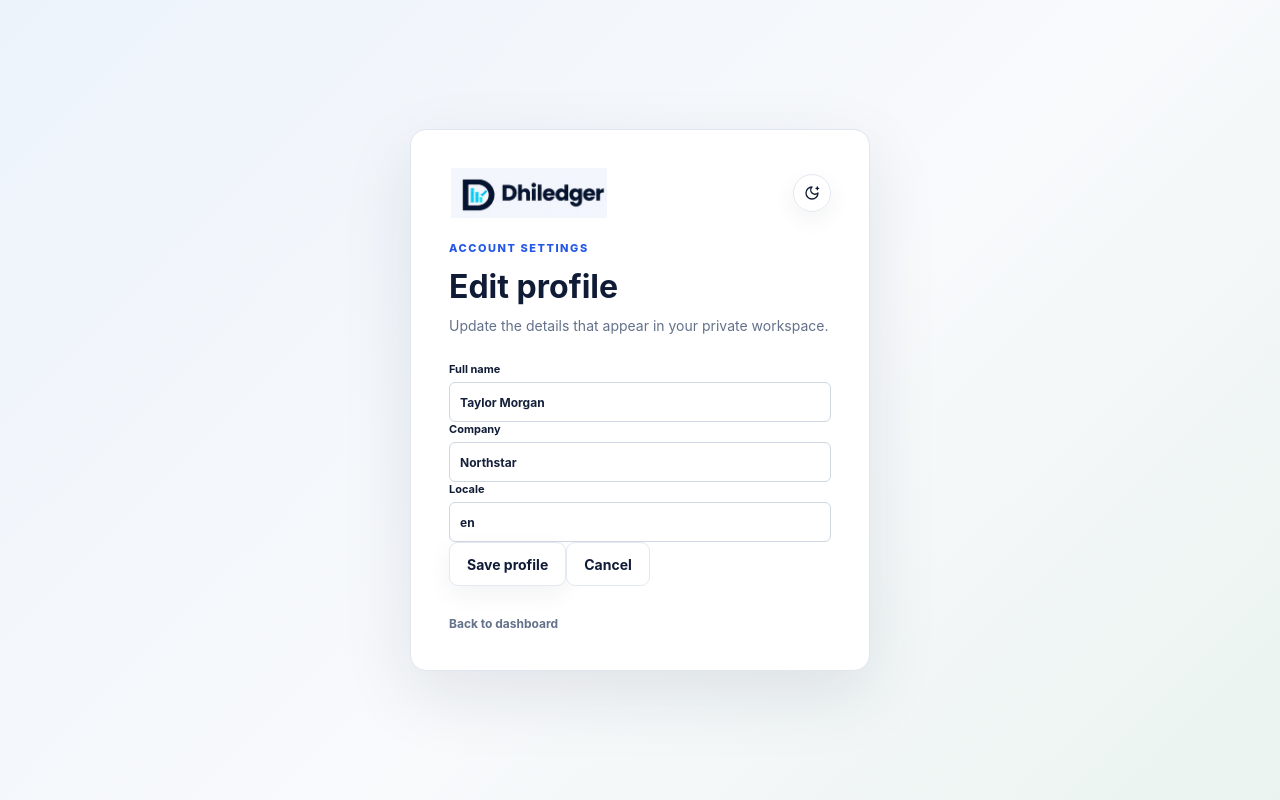
LiveDashboard profile editor › persists edited profile fields while preserving other account metadata
Replace the text in the field labelled "Full name" with "Taylor Lee" at [640, 402], box [449,382,831,422]
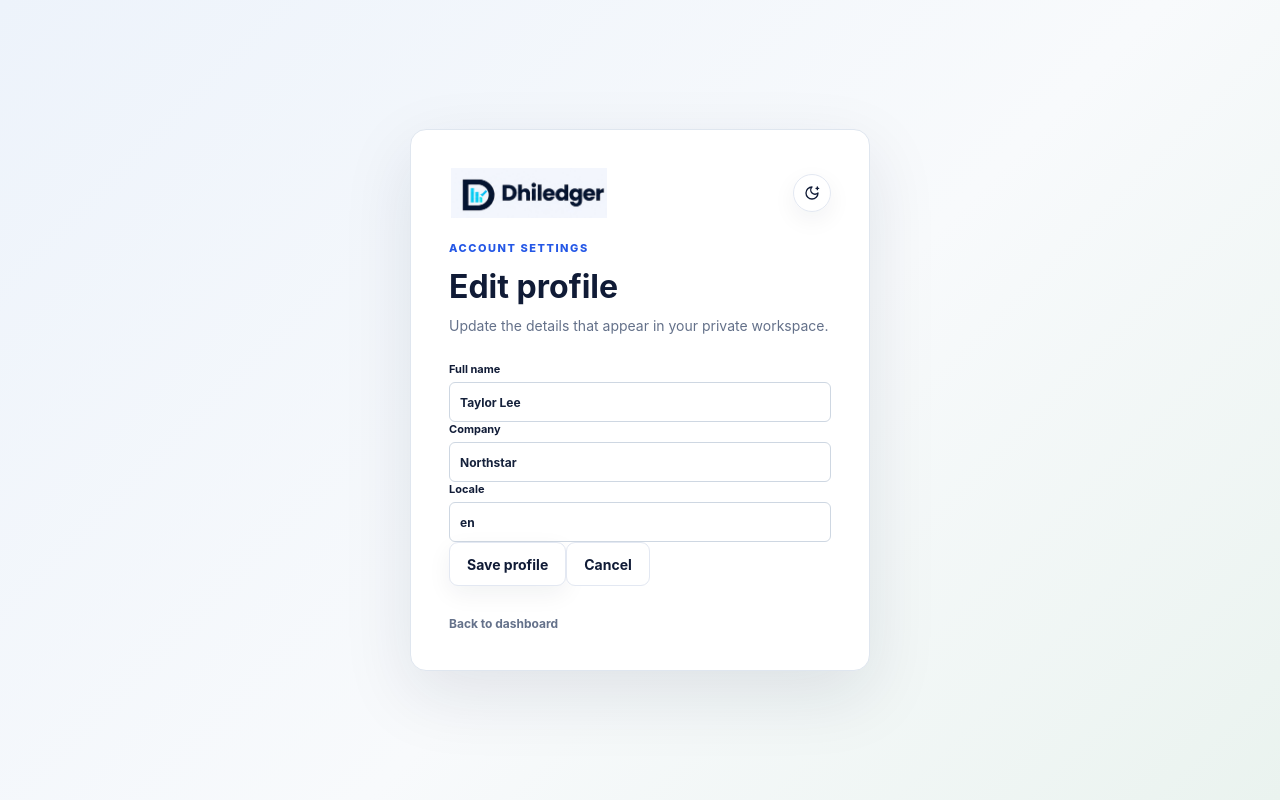
Replace the text in the field labelled "Company" with "Northstar Labs" at [640, 462], box [449,442,831,482]
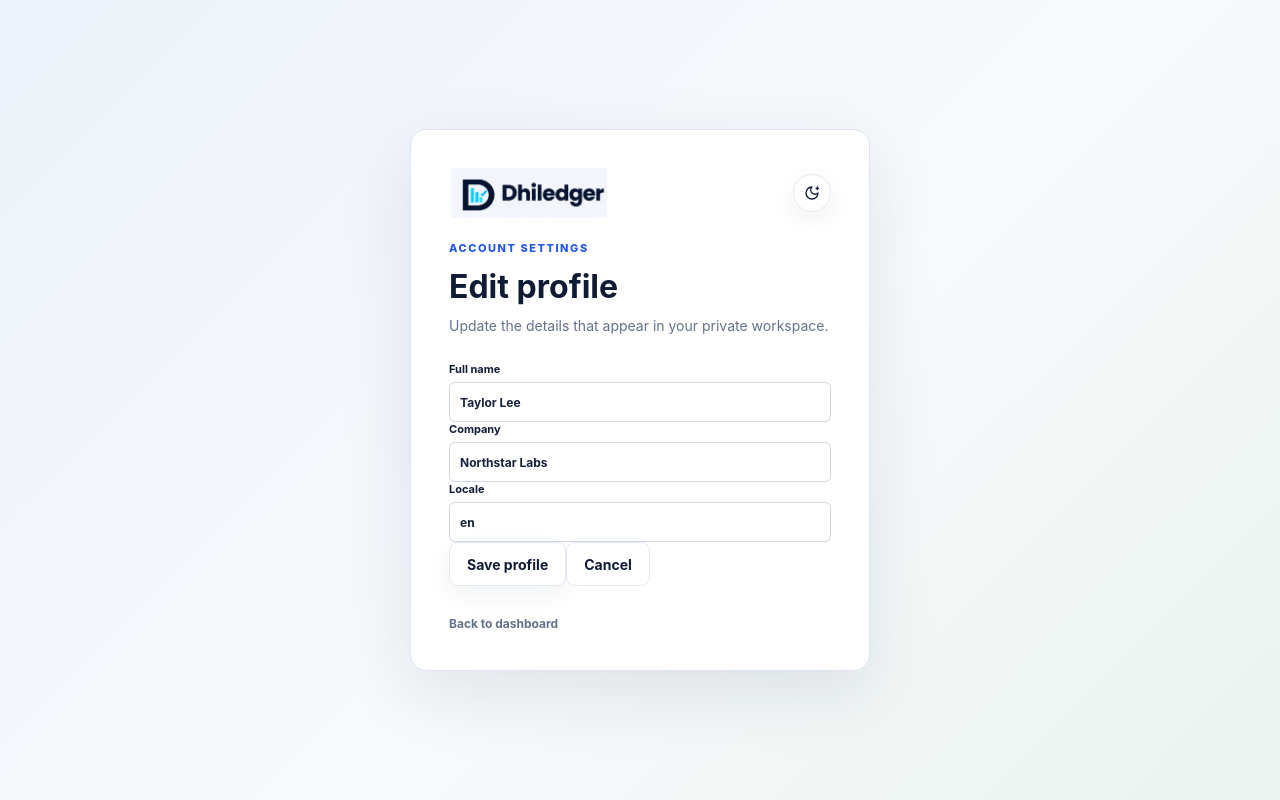
Click the button "Save profile" at [508, 564], box [449,542,566,586]
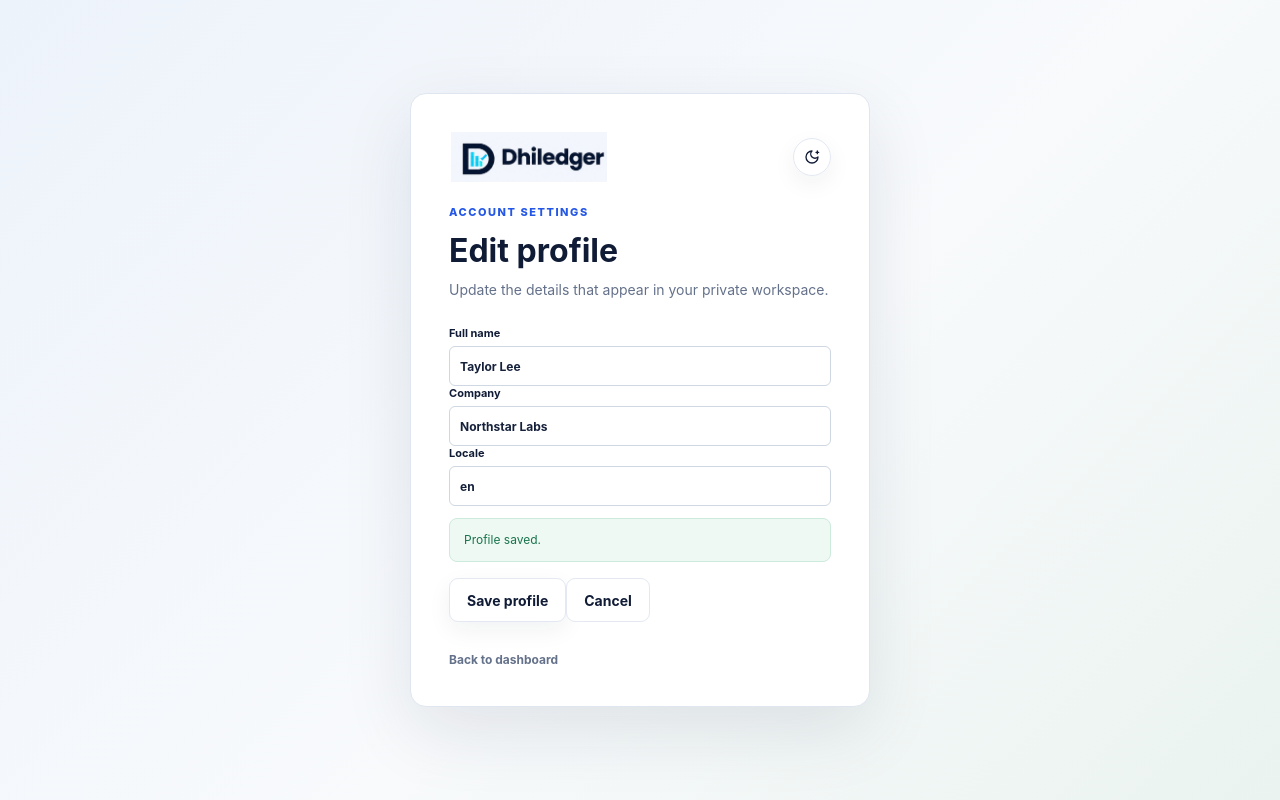
Now the text "Profile saved." is shown, box [449,518,831,562]
